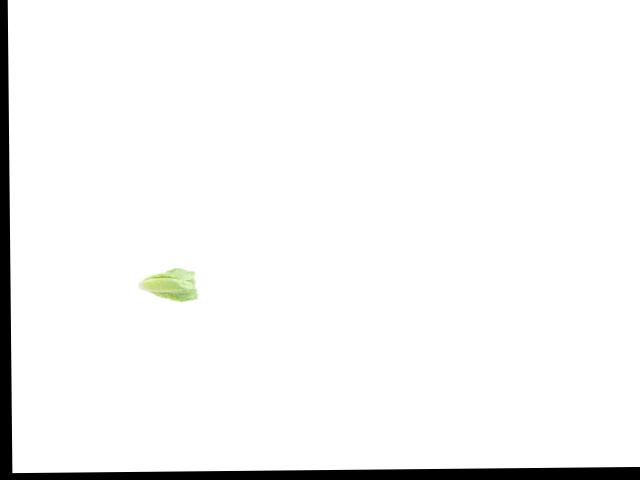lettuce: (136, 262, 200, 307)
